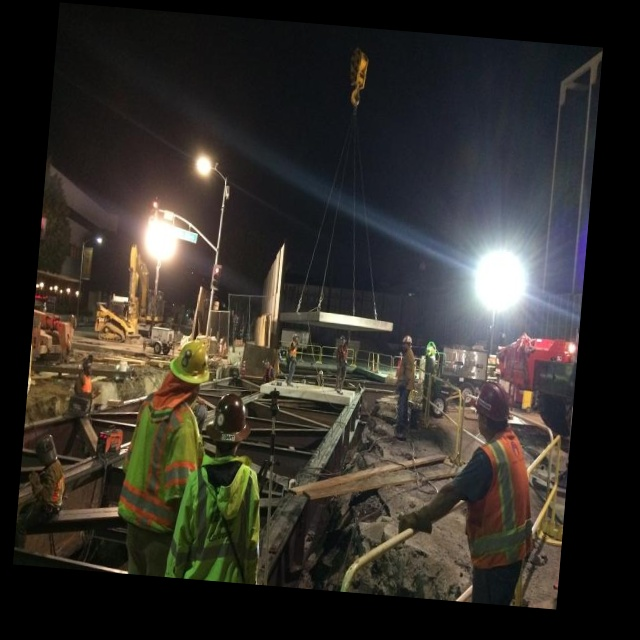Con_Casco: (204, 390, 255, 458), (164, 339, 212, 402), (473, 377, 513, 439)
Con_Chaleco: (457, 436, 544, 574), (116, 397, 198, 539), (180, 463, 265, 585)
